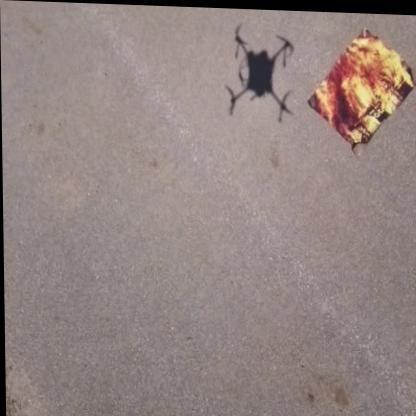fire-poster: (306, 22, 416, 153)
